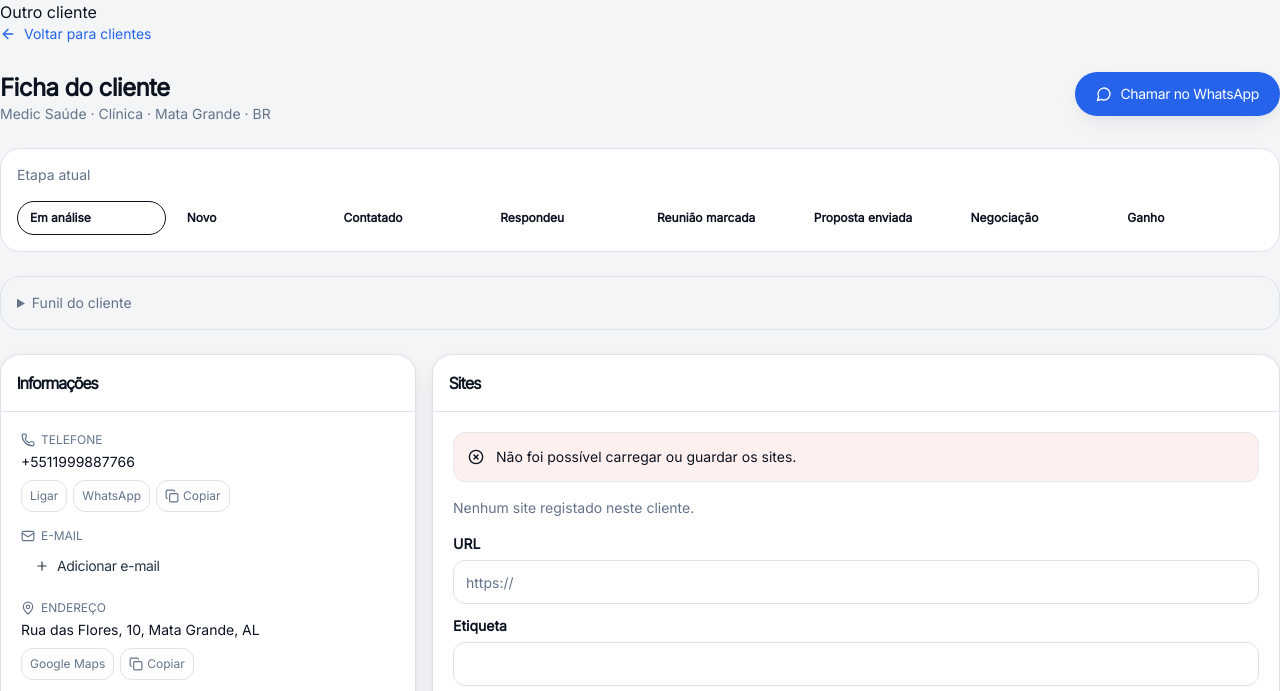
Scenario: LeadDetailPage › abre o funil quando o cliente já possui uma etapa
The width and height of the screenshot is (1280, 691).
Click the heading "Funil do cliente" at (82, 302), box x1=32 y1=294 x2=132 y2=311
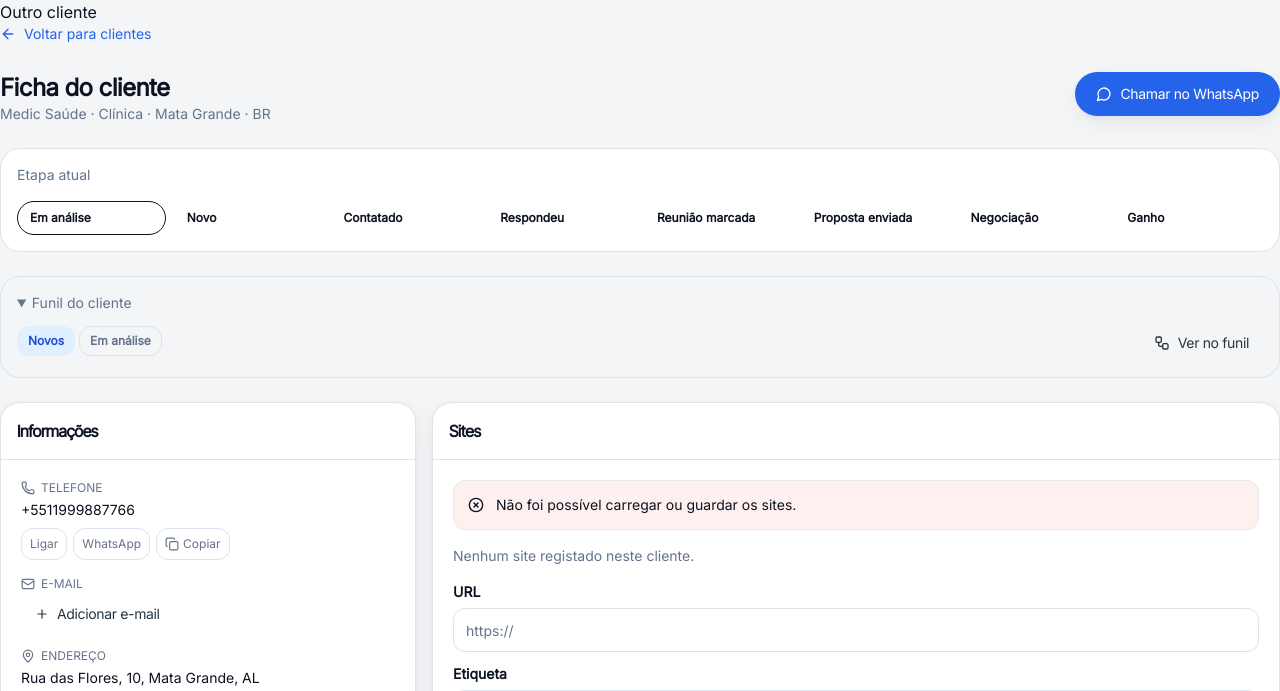
Click the button "Ver no funil" at (1201, 343), box x1=1140 y1=325 x2=1263 y2=361
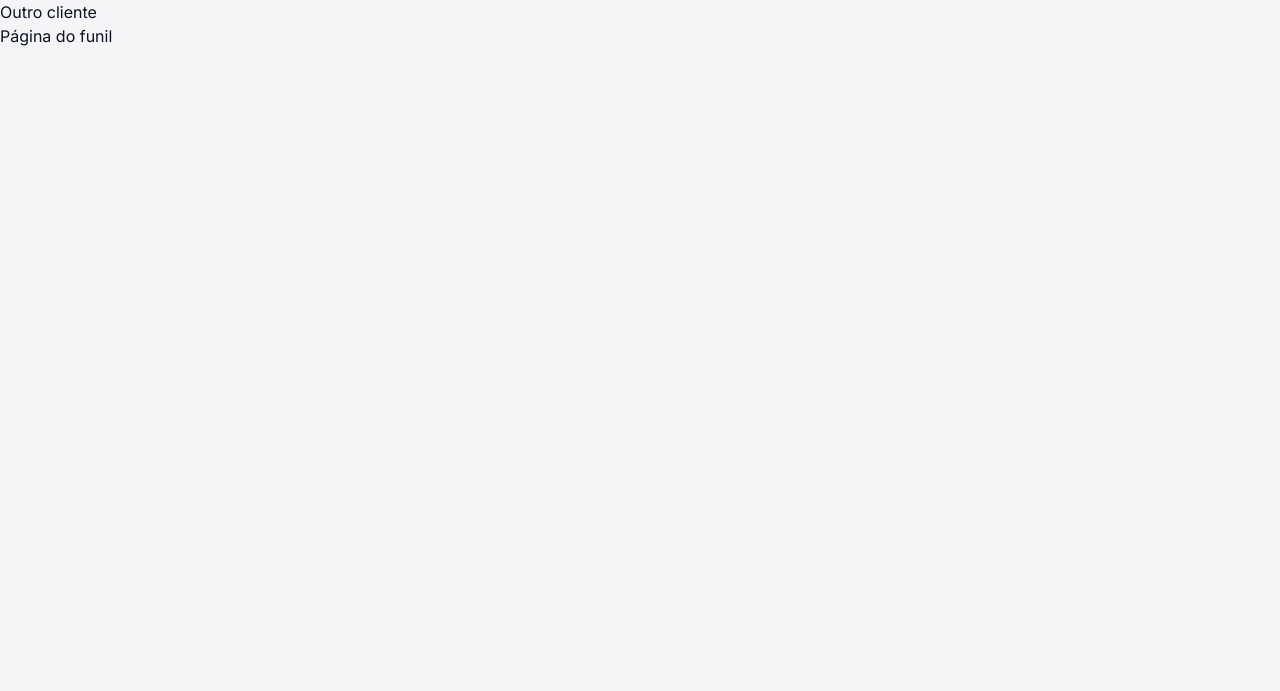
Now the text "Página do funil" is shown, box x1=0 y1=26 x2=112 y2=46
